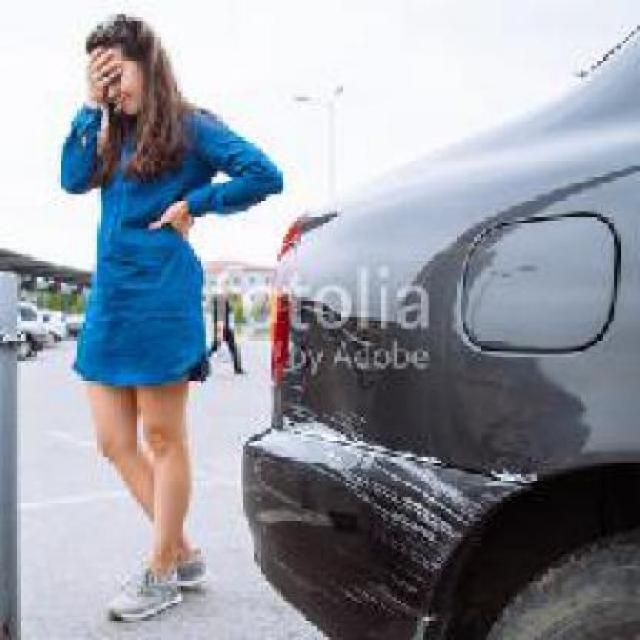dent-or-scratch: (279, 399, 472, 538)
